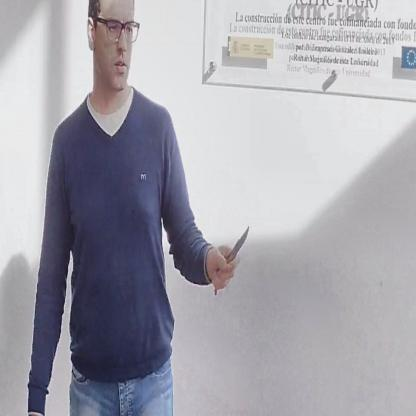knife: (210, 219, 252, 302)
